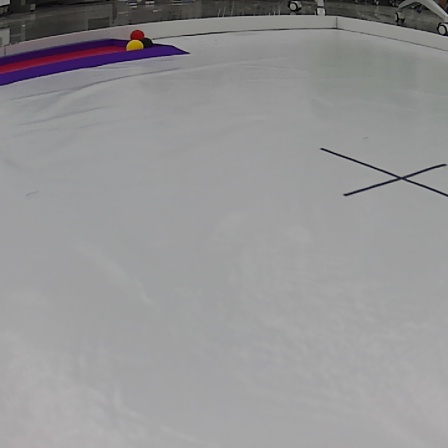black: (141, 37, 155, 46)
red: (130, 28, 145, 38)
red_aim: (0, 37, 198, 88)
yellow: (122, 40, 145, 51)
